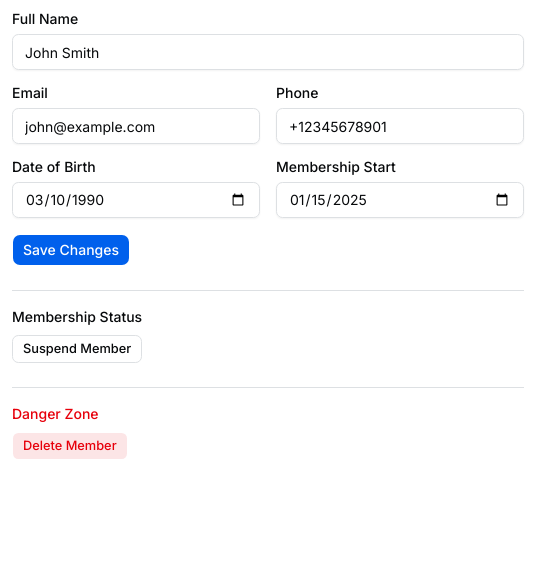
Test: EditMemberForm › editMemberForm_emptyMembershipStart_showsOnlyMembershipStartErrorAndDoesNotCallUpdate
Clear the date field labelled "Membership Start" at (400, 200), box x1=276 y1=182 x2=524 y2=218
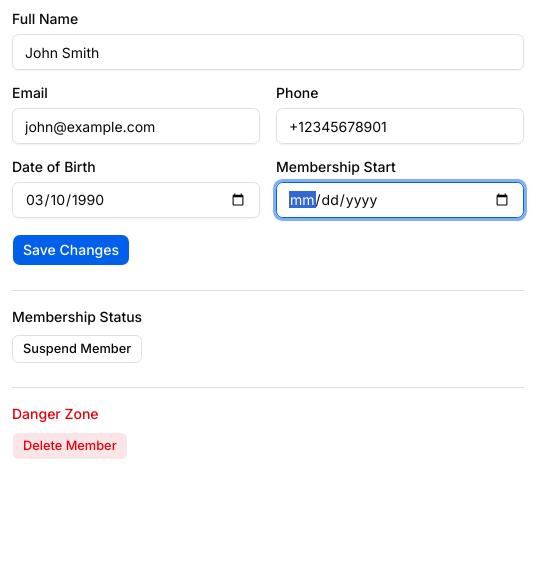
Click the button "Save Changes" at (71, 250), box x1=12 y1=234 x2=130 y2=266
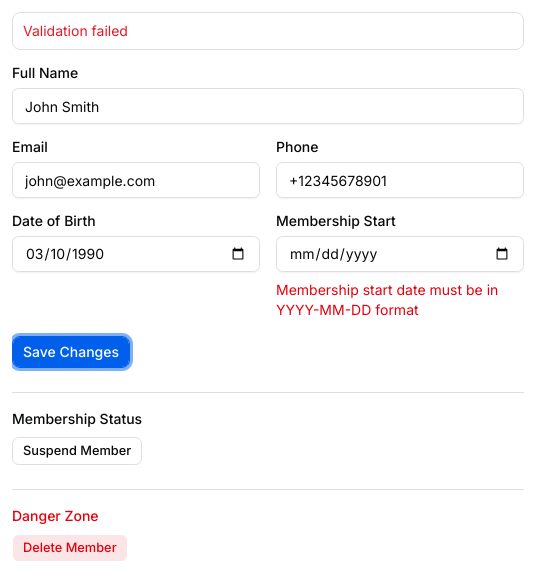
Expected: the text "Membership start date must be in YYYY-MM-DD format" is shown, x1=276 y1=280 x2=524 y2=320
